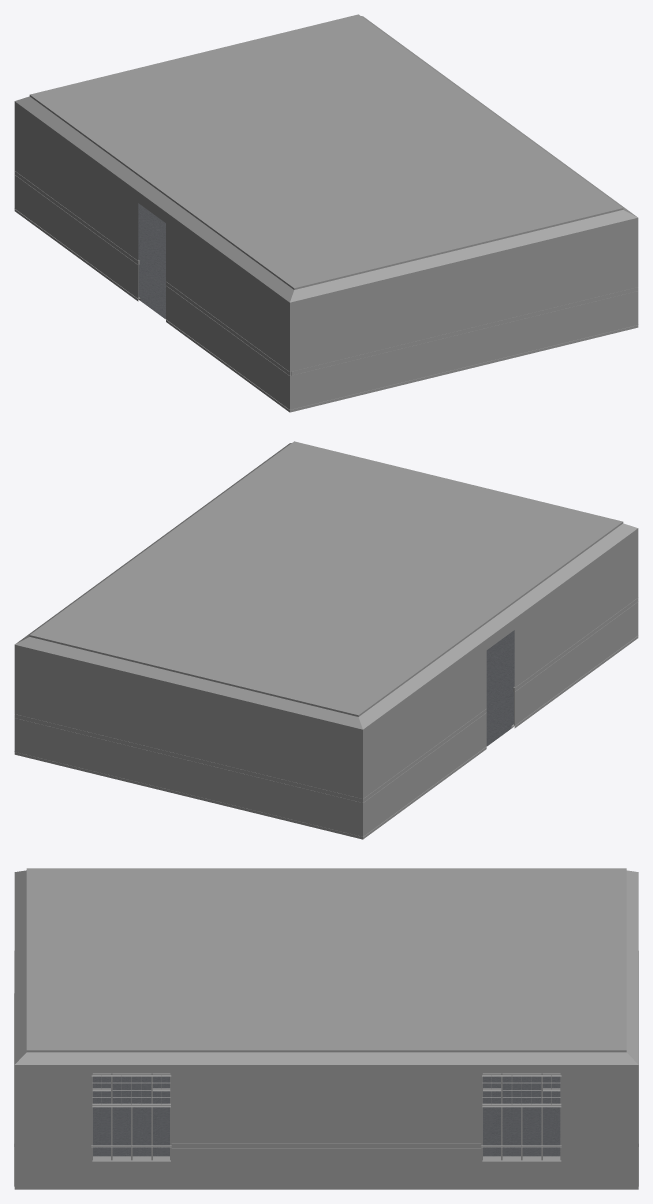
File: Corridor_RoomA.fbx
The picture shows the model from 3 angles, top to bottom: view 1: azimuth 30°, elevation 25°; view 2: azimuth 150°, elevation 25°; view 3: azimuth 270°, elevation 25°; orthographic projection. The views are drawn at different scales.
Parts seen in each view (by area): view 1: Mesh; view 2: Mesh; view 3: Mesh.
Boxes of the visible parts, <box> form: Mesh: <box>14,14,638,412</box>; Mesh: <box>14,441,638,839</box>; Mesh: <box>14,868,638,1189</box>.
Bounding box in the file's own units: 754 × 240 × 1016.
